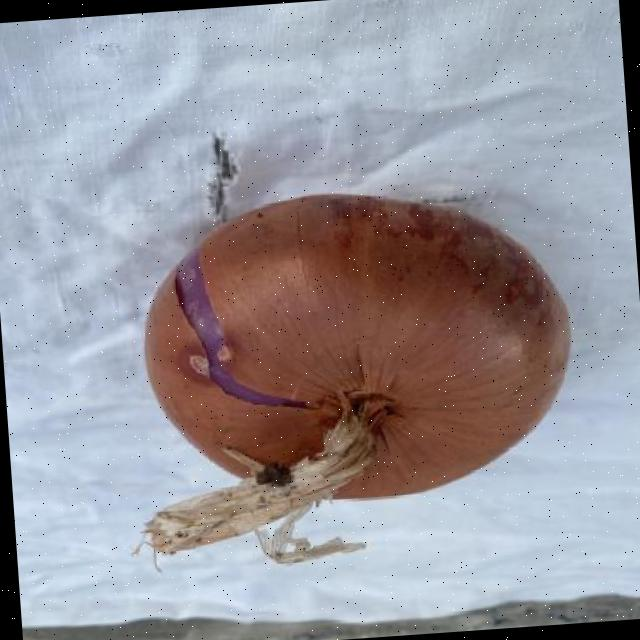Onion: (140, 193, 567, 564)
